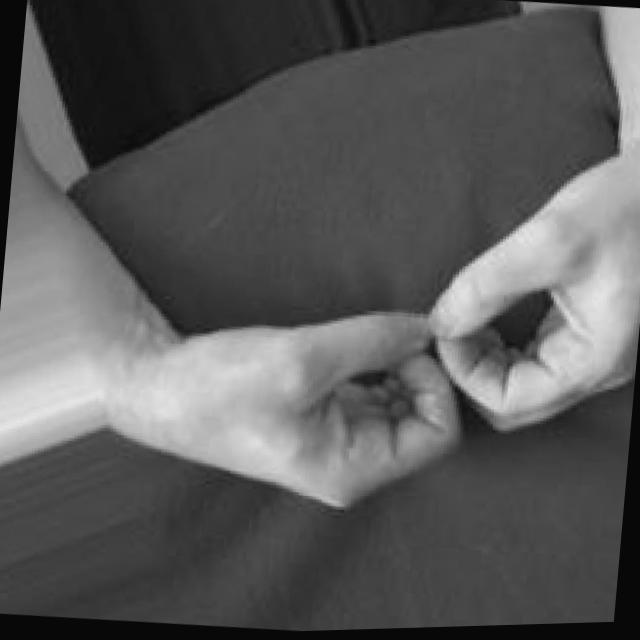B: (89, 78, 640, 542)
